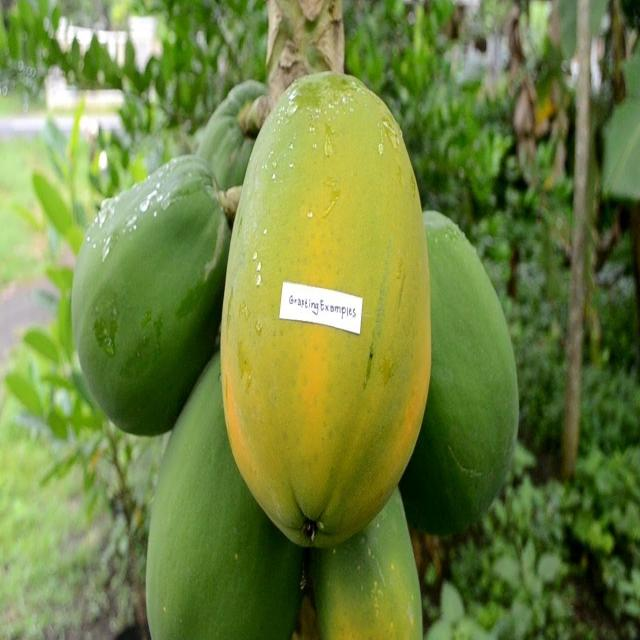Pepaya rippen: (224, 61, 436, 558)
Pepaya unrippen: (68, 138, 224, 434), (434, 218, 519, 558)
